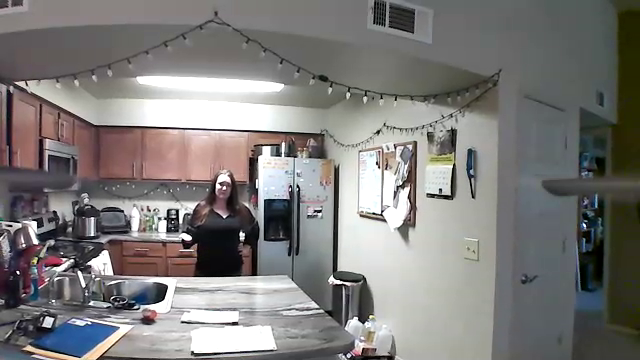land: (175, 229, 198, 249)
